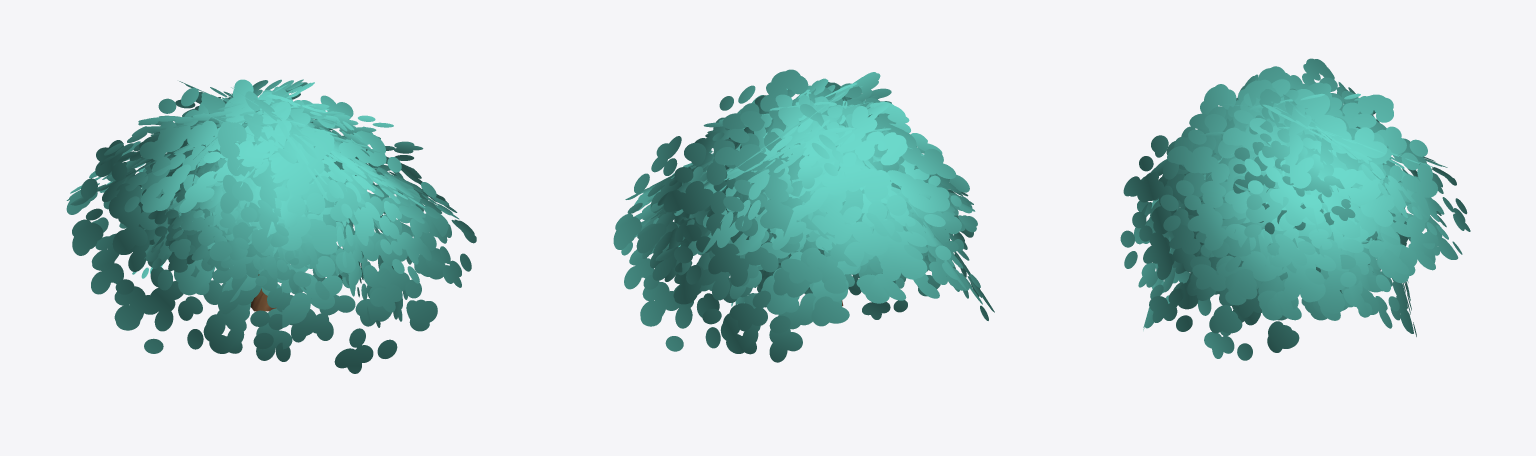
Rendered from bush01.glb.
The picture shows the model from 3 angles, left to right: view 1: azimuth 30°, elevation 25°; view 2: azimuth 150°, elevation 25°; view 3: azimuth 270°, elevation 25°; orthographic projection. The views are drawn at different scales.
Parts seen in each view (by area): view 1: LOD1; view 2: LOD1; view 3: LOD1.
Boxes of the visible parts, <box> form: LOD1: <box>66,79,476,373</box>; LOD1: <box>613,69,994,362</box>; LOD1: <box>1120,58,1470,360</box>.
Bounding box in the file's own units: 2.64 × 1.96 × 2.39.
2 materials, 2 textured.
